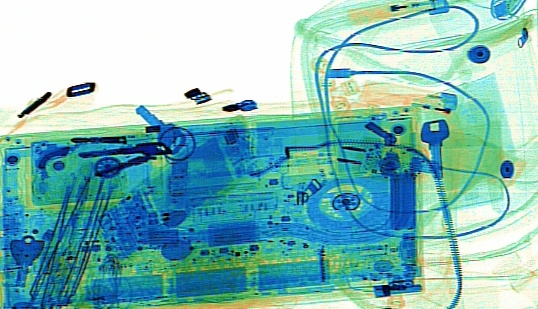lighter: (357, 81, 458, 113), (345, 1, 449, 24)
